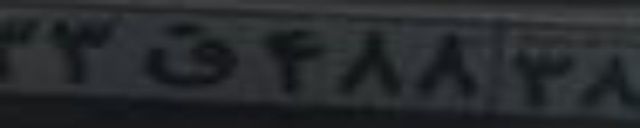3: (51, 16, 116, 86), (508, 46, 574, 107), (1, 18, 42, 84)
4: (263, 27, 324, 94)
8: (413, 29, 484, 99), (335, 28, 406, 97), (584, 53, 638, 108)
ghaf: (140, 23, 243, 87)
